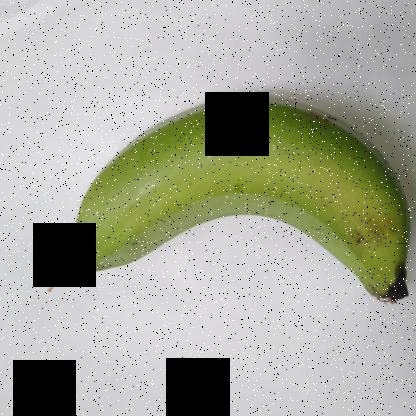freshunripe: (59, 76, 415, 335)
